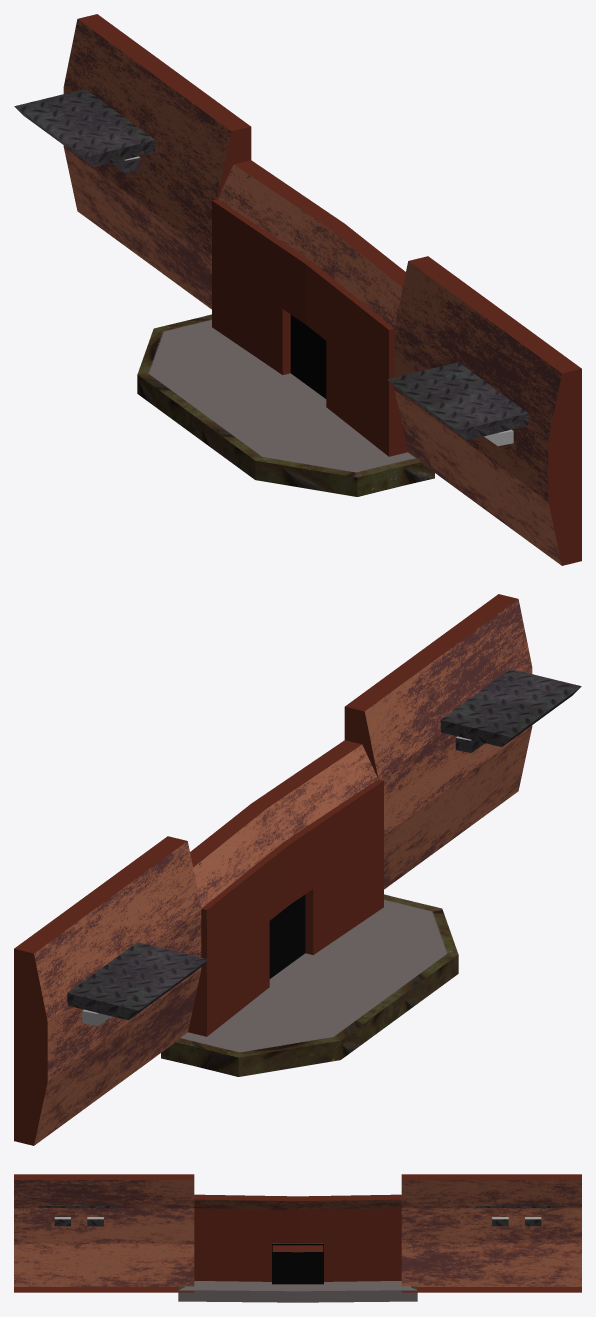
File: BF_BaseEntrance.fbx
The picture shows the model from 3 angles, top to bottom: view 1: azimuth 30°, elevation 25°; view 2: azimuth 150°, elevation 25°; view 3: azimuth 270°, elevation 25°; orthographic projection. The views are drawn at different scales.
Visible parts, largest first — view 1: BaseEntrance.003; view 2: BaseEntrance.003; view 3: BaseEntrance.003.
Boxes of the visible parts, box(x1,y1,x2,y2) form: BaseEntrance.003: box(14, 14, 581, 565); BaseEntrance.003: box(14, 594, 581, 1145); BaseEntrance.003: box(14, 1174, 581, 1302).
Bounding box in the file's own units: 2537 × 3441 × 14347.
